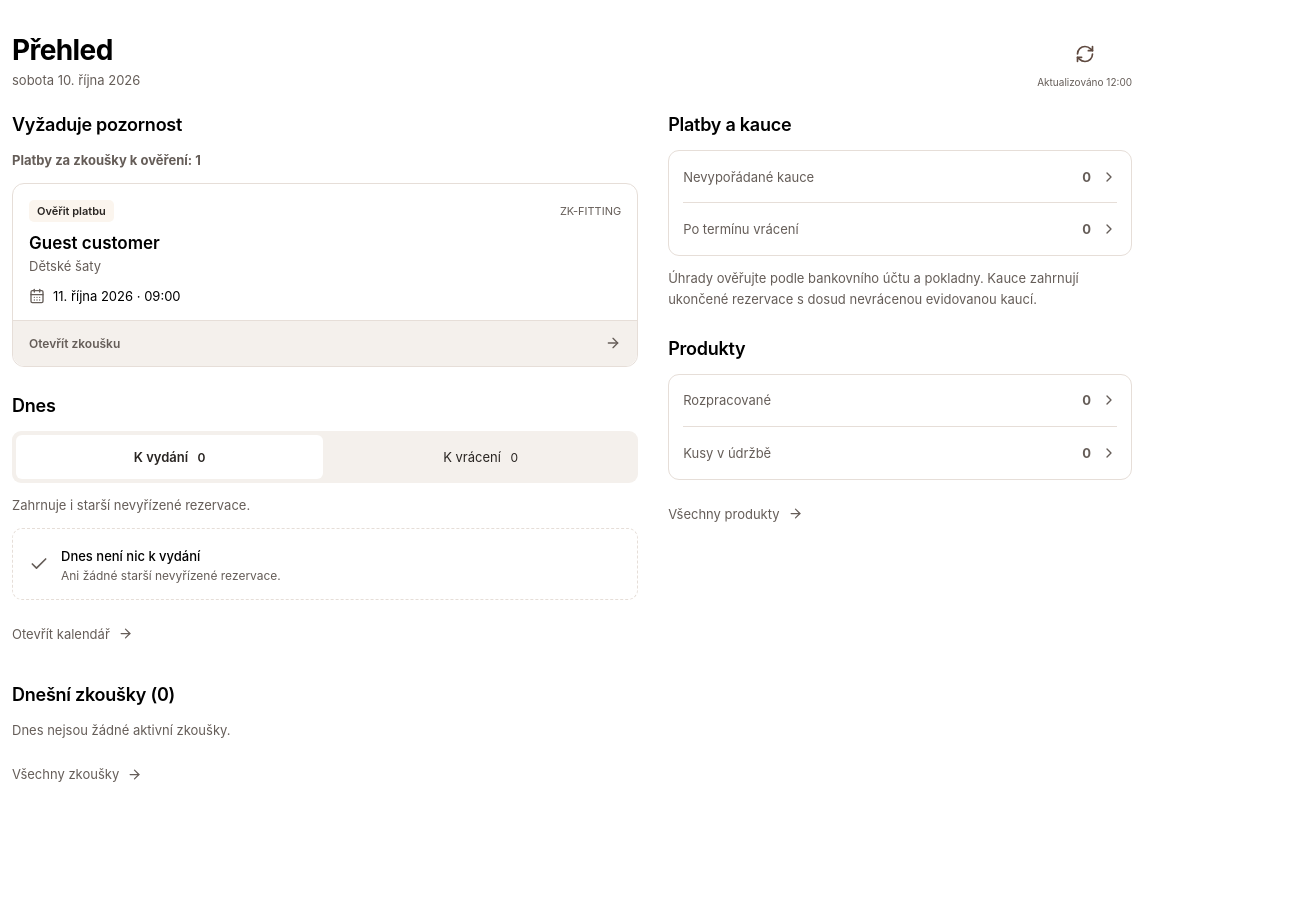
it: future fitting payment review prevents all-clear and links to the exact fitting
Check: the text "Platby za zkoušky k ověření: 1" is shown, box [12, 152, 201, 168]
Check: the text "Vše je vyřízeno" is not shown
Click the button named "Obnovit" at (1085, 54), box [1063, 32, 1107, 76]
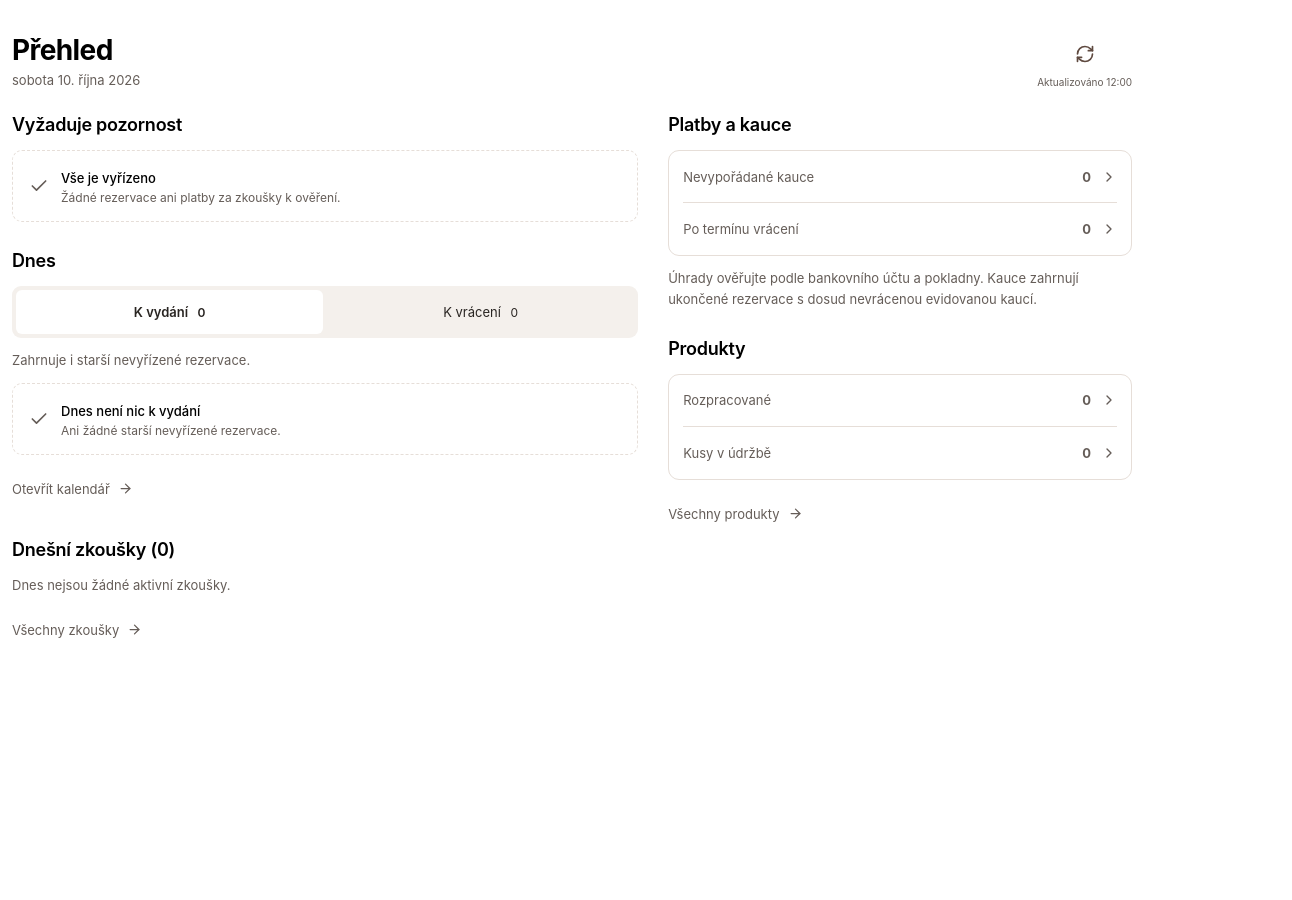
Check: the text "Vše je vyřízeno" is shown, box [61, 170, 156, 186]
Check: the text "ZK-FITTING" is gone
